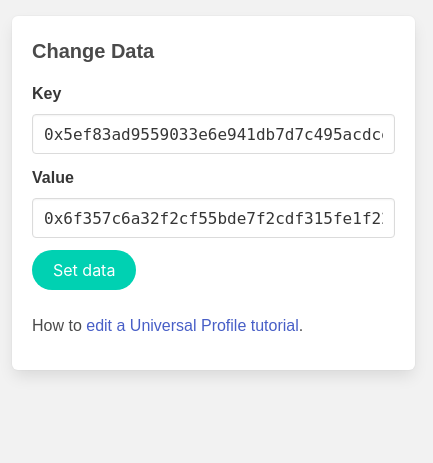
can see set data error from send function
The width and height of the screenshot is (433, 463).
Click the button with test id "setData": (84, 270) [32,250,136,290]
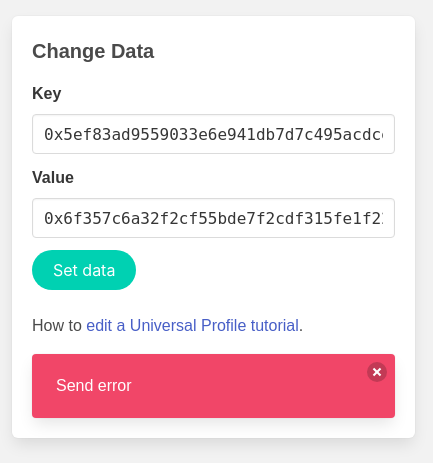
Expected: the element with test id "notification" reads "Send error", [56,377,132,394]
